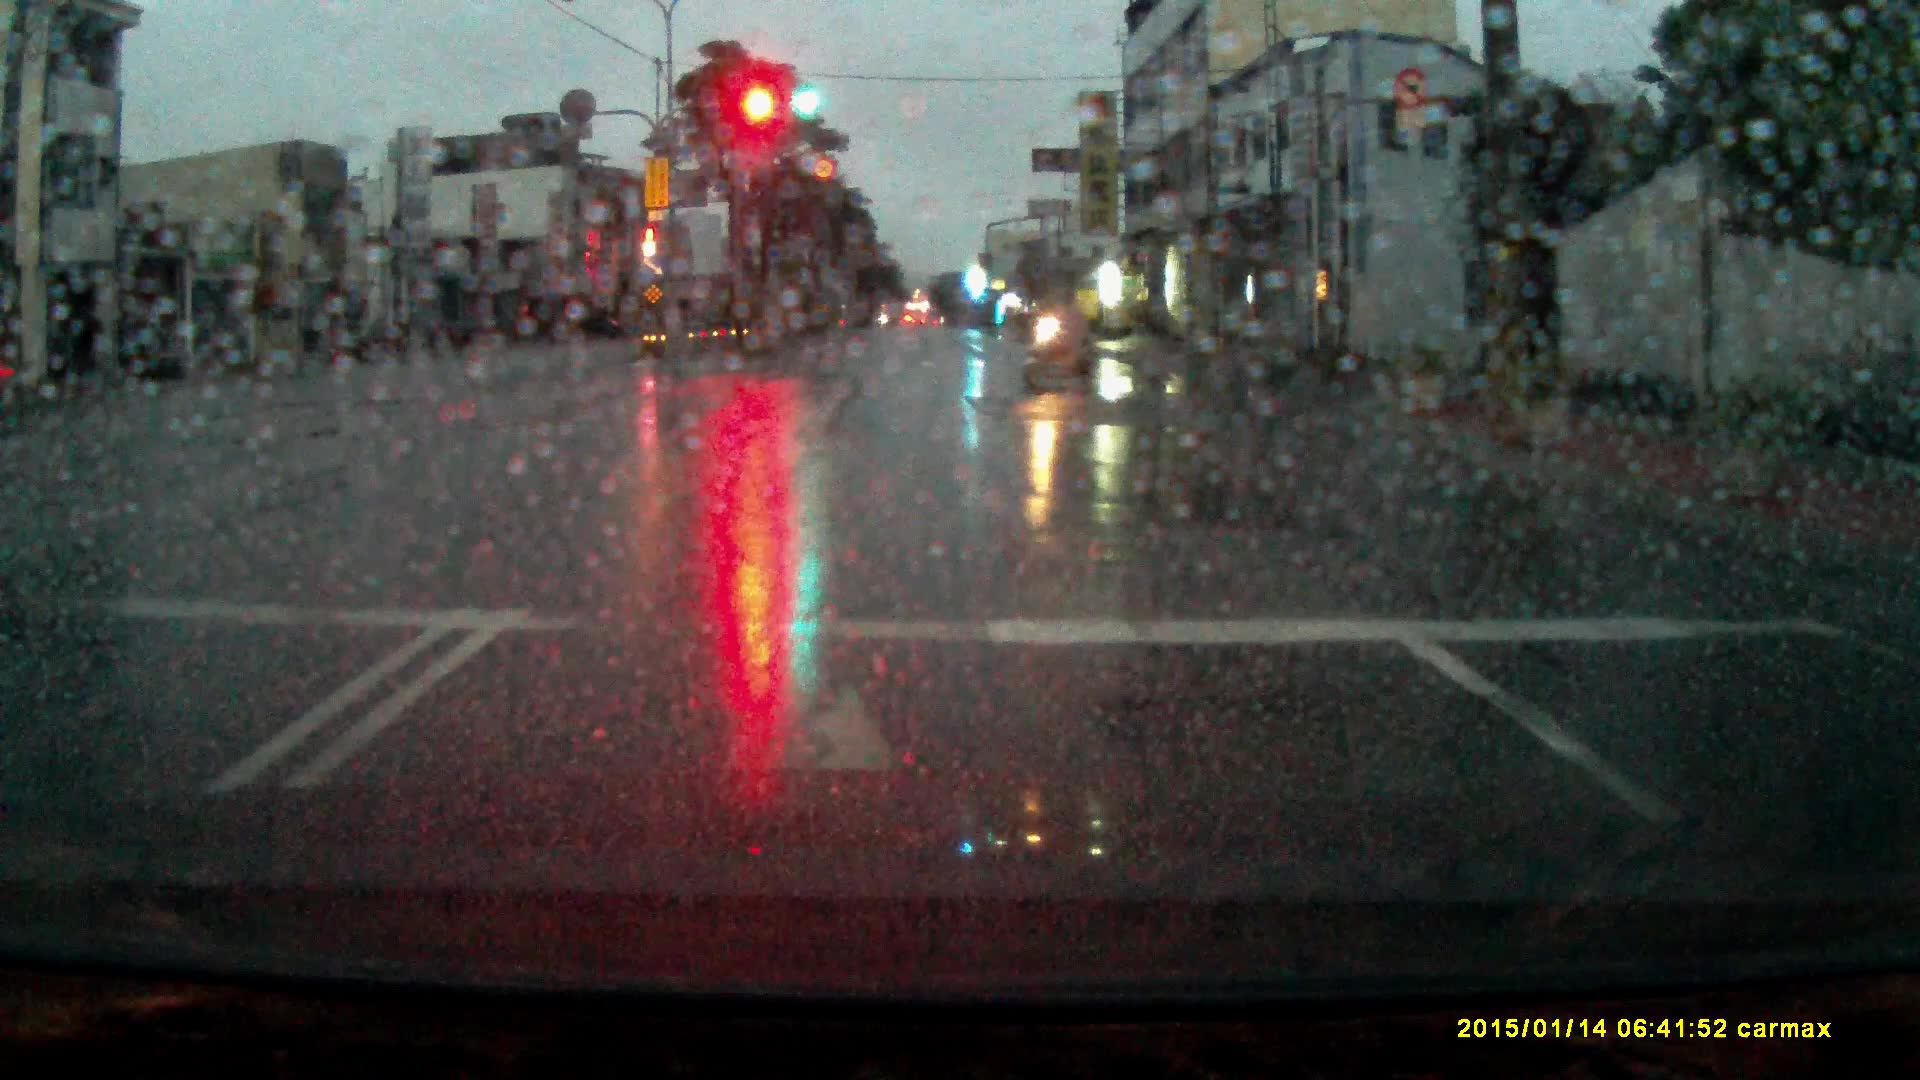rider: (1021, 283, 1101, 392)
